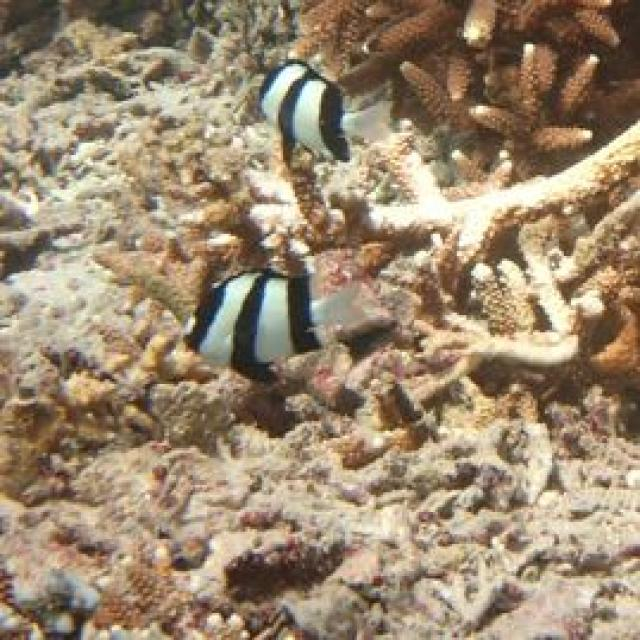ThreeStripedDamselfish: (190, 271, 374, 382), (259, 62, 390, 165)
